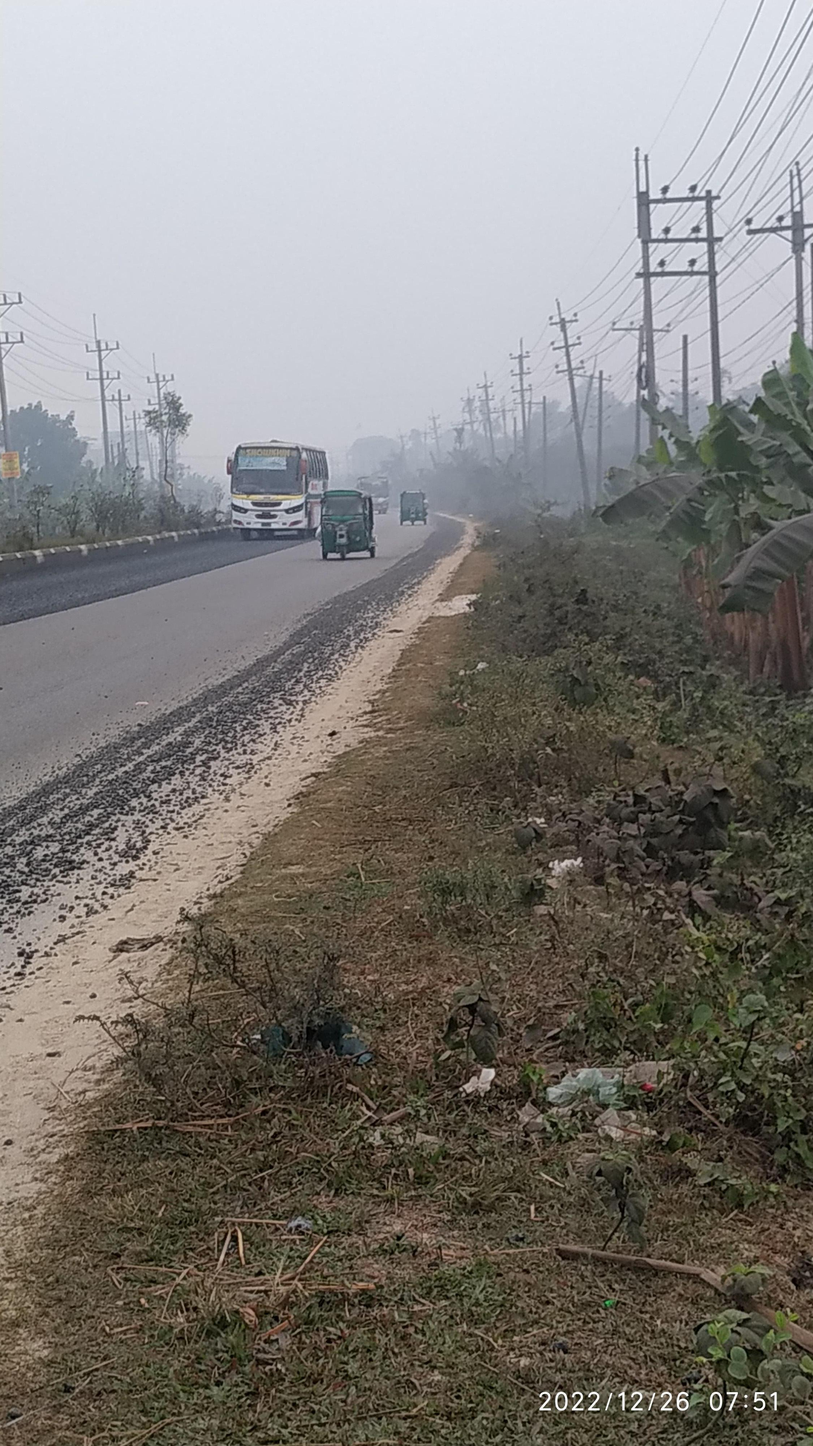Bus: (211, 423, 332, 547)
